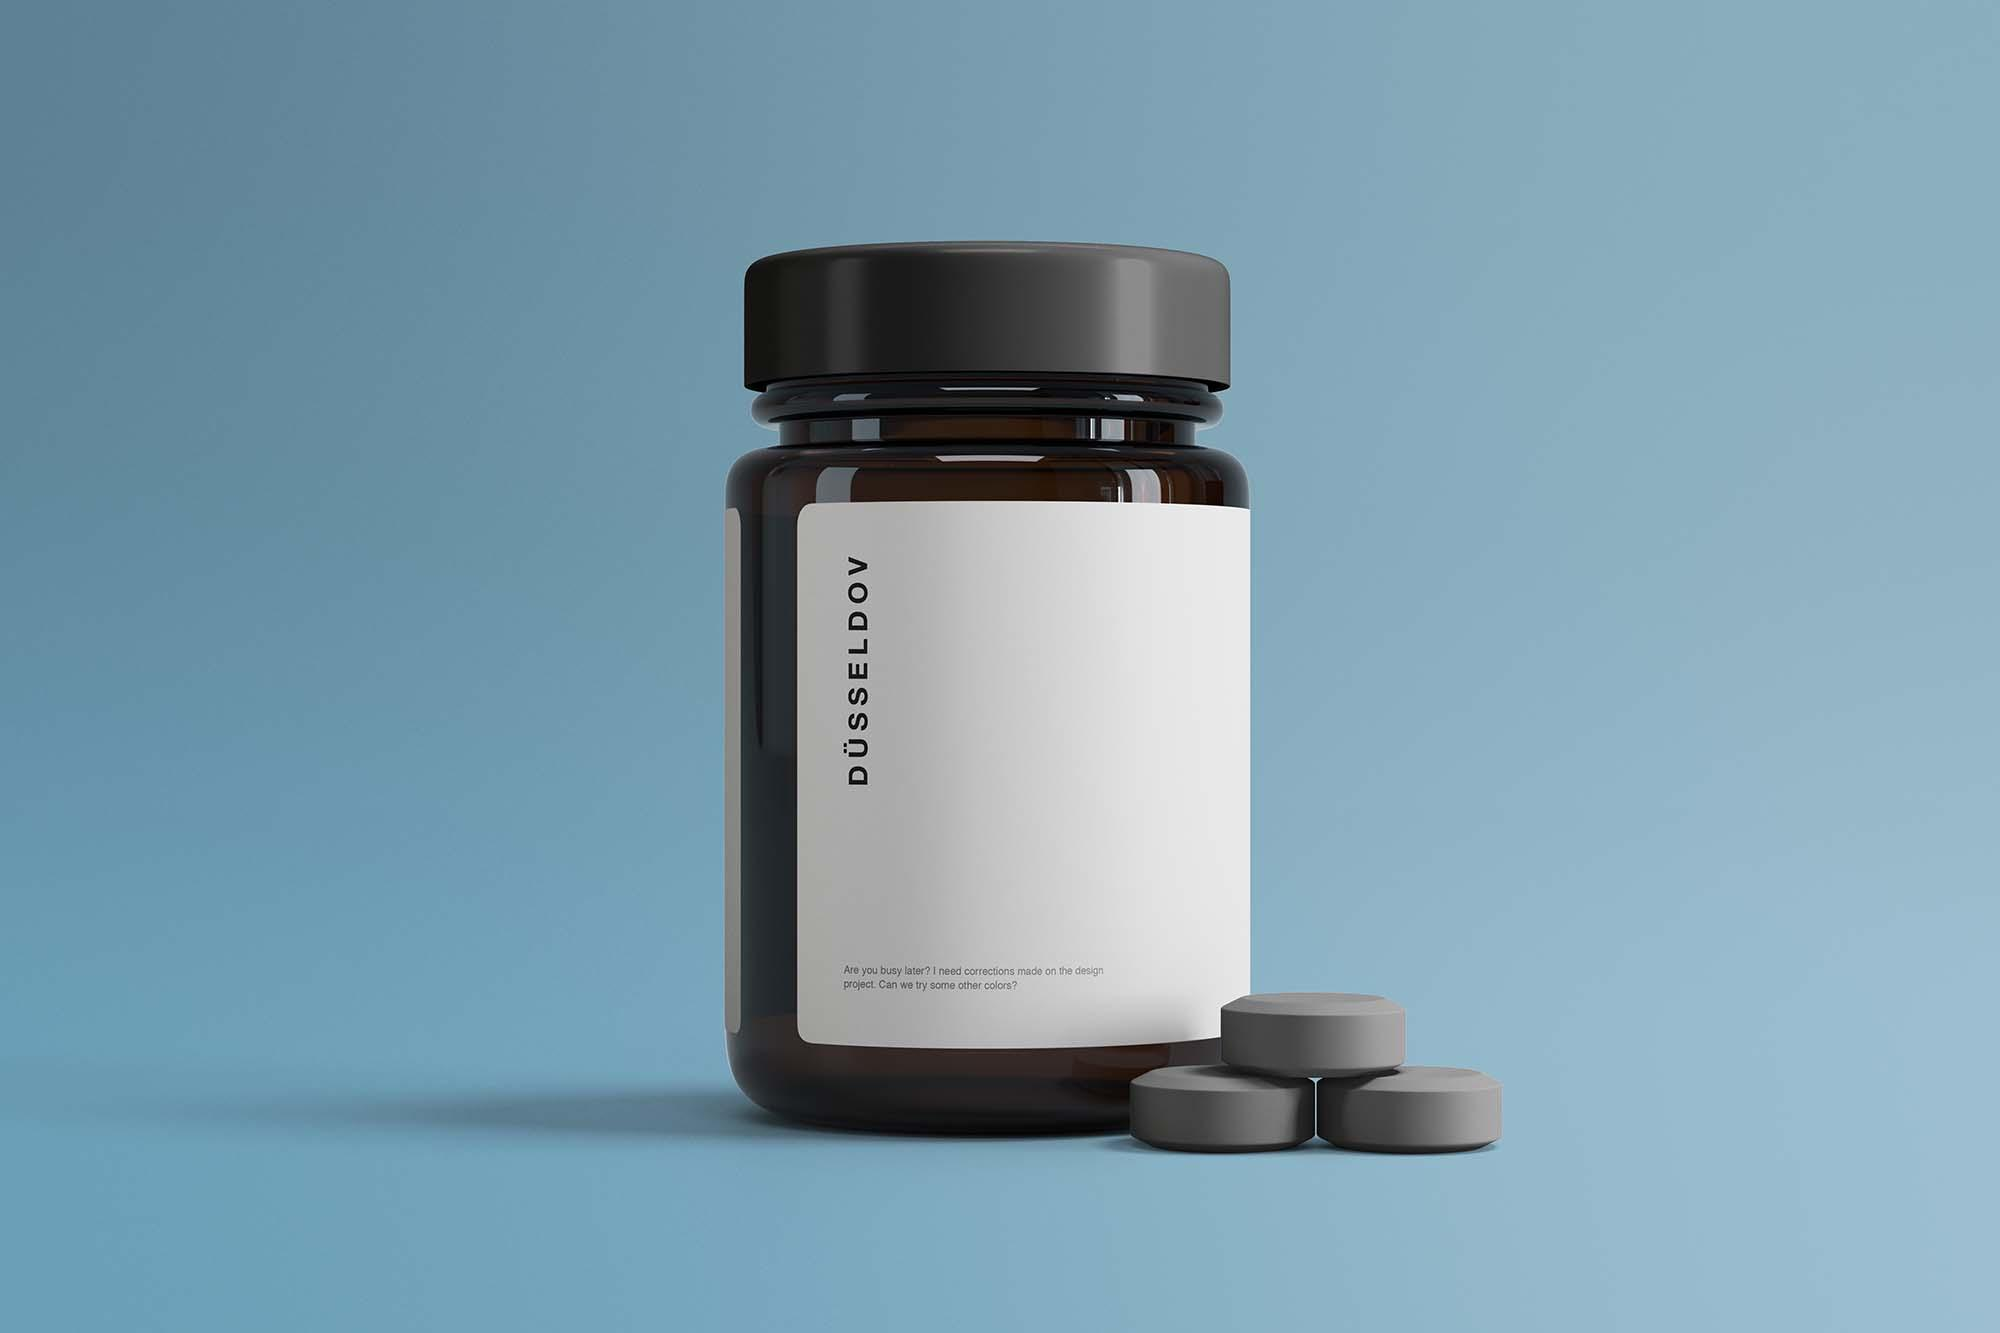jar: (723, 242, 1252, 1143)
